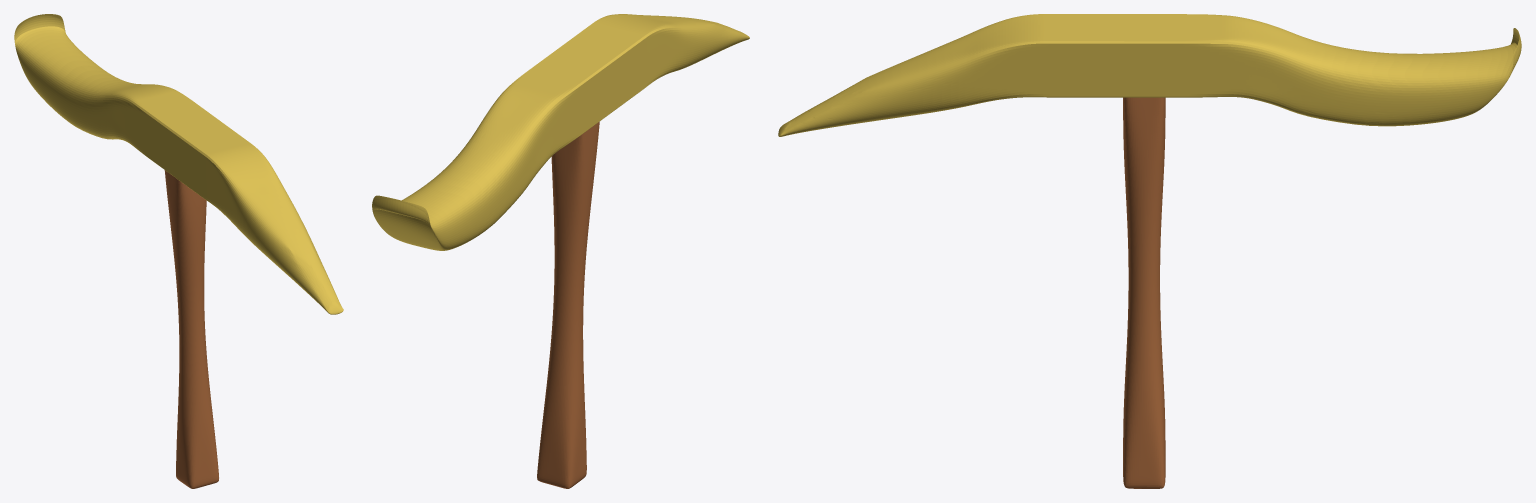
File: my_project.glb
3 renders of one model, left to right at view 1: azimuth 30°, elevation 25°; view 2: azimuth 150°, elevation 25°; view 3: azimuth 270°, elevation 25°, orthographic. The views are drawn at different scales.
Parts seen in each view (by area): view 1: Box 1, Box; view 2: Box 1, Box; view 3: Box 1, Box.
Boxes of the visible parts, x1,y1,x2,y2 form: Box 1: (14, 14, 343, 314); Box: (164, 170, 218, 488); Box 1: (372, 14, 749, 250); Box: (537, 122, 599, 488); Box 1: (778, 14, 1521, 136); Box: (1123, 97, 1165, 488).
Size of the model in its own units: 0.1612 by 1.08 by 1.61.
